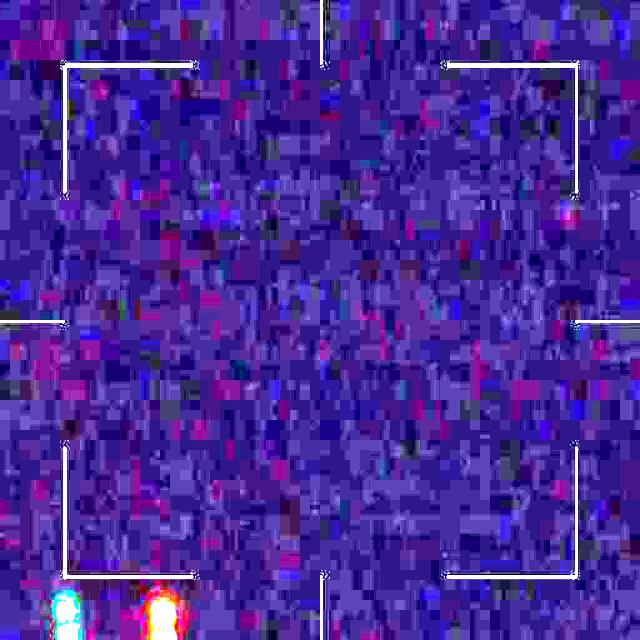bird: (55, 592, 178, 640)
